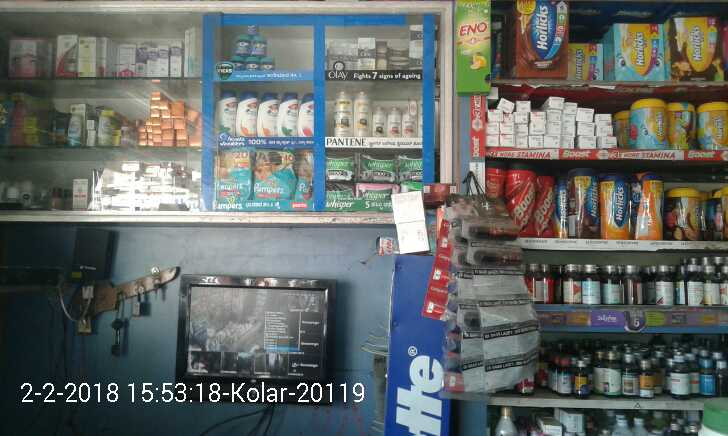beauty: (252, 91, 278, 139), (328, 89, 351, 136), (277, 91, 297, 139), (235, 91, 254, 139), (353, 92, 370, 139), (217, 92, 235, 136), (355, 39, 379, 70), (401, 102, 421, 139), (297, 96, 314, 139), (387, 104, 404, 142), (410, 25, 425, 59), (370, 105, 385, 137), (379, 39, 391, 69)
pharmacy: (214, 145, 255, 203), (252, 148, 292, 198), (359, 153, 394, 184), (326, 154, 356, 183), (396, 151, 425, 180), (234, 30, 250, 57), (250, 35, 269, 56), (260, 55, 276, 71), (244, 59, 258, 73)
